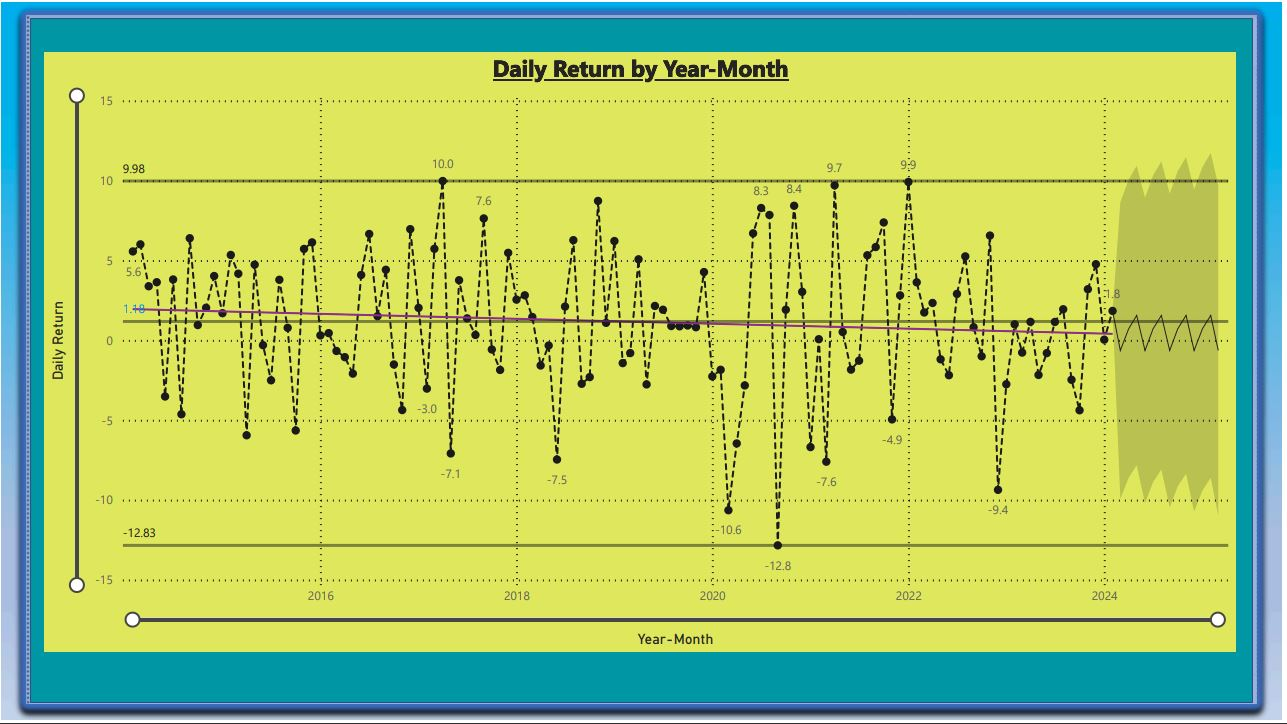

Layout of this report page (visuals, bound fields, positions):
{"tool":"powerbi","page":{"name":"P5","canvas":[1280,720],"ordinal":4},"visuals":[{"type":"lineChart","fields":{"Category":["stock_price_indonesian_bank bank_stock_price_10y.Year-Month"],"Y":["Sum(stock_price_indonesian_bank bank_stock_price_10y.Daily Return_m)"]},"box":[43.9,50.6,1191.4,598.5],"z":0}]}

Visuals, with their boxes in screenshot pixels (x1, y1, x2, y2), scaled from the page's 1280x720 canvas onto the 1287x724 screenshot:
lineChart - stock_price_indonesian_bank bank_stock_price_10y.Year-Month x Sum(stock_price_indonesian_bank bank_stock_price_10y.Daily Return_m): rect(44, 51, 1242, 653)
